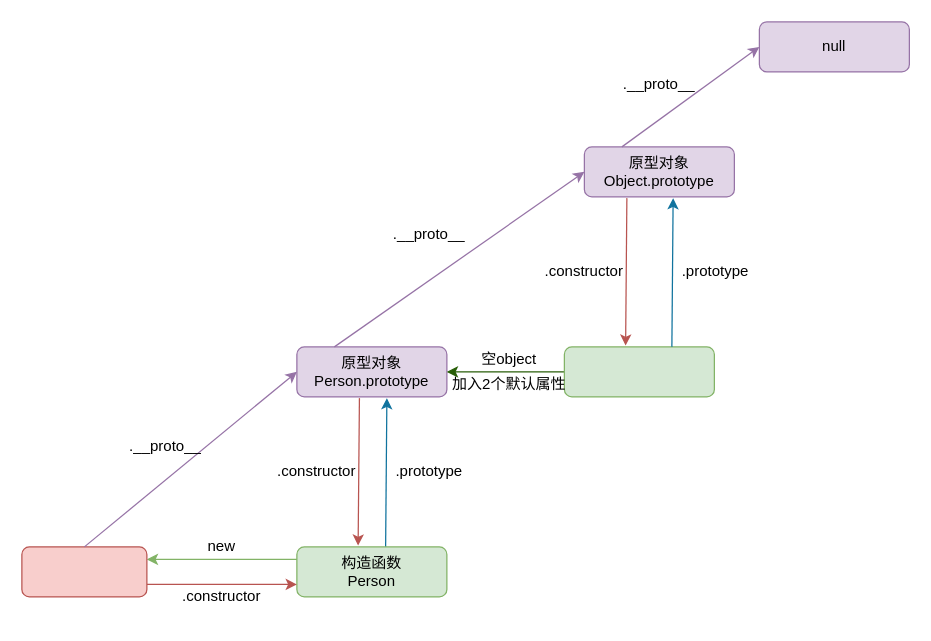
Image size: 931x641. Some labels were removed from this diagram. Each missing label, with the centre of its shape:
实例对象 p: point (84, 571)
构造函数 Object: point (638, 371)
